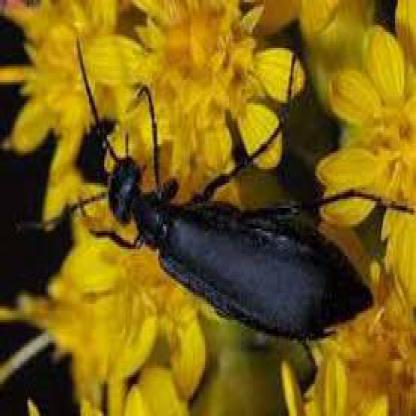blister beetle: (27, 47, 373, 342)
